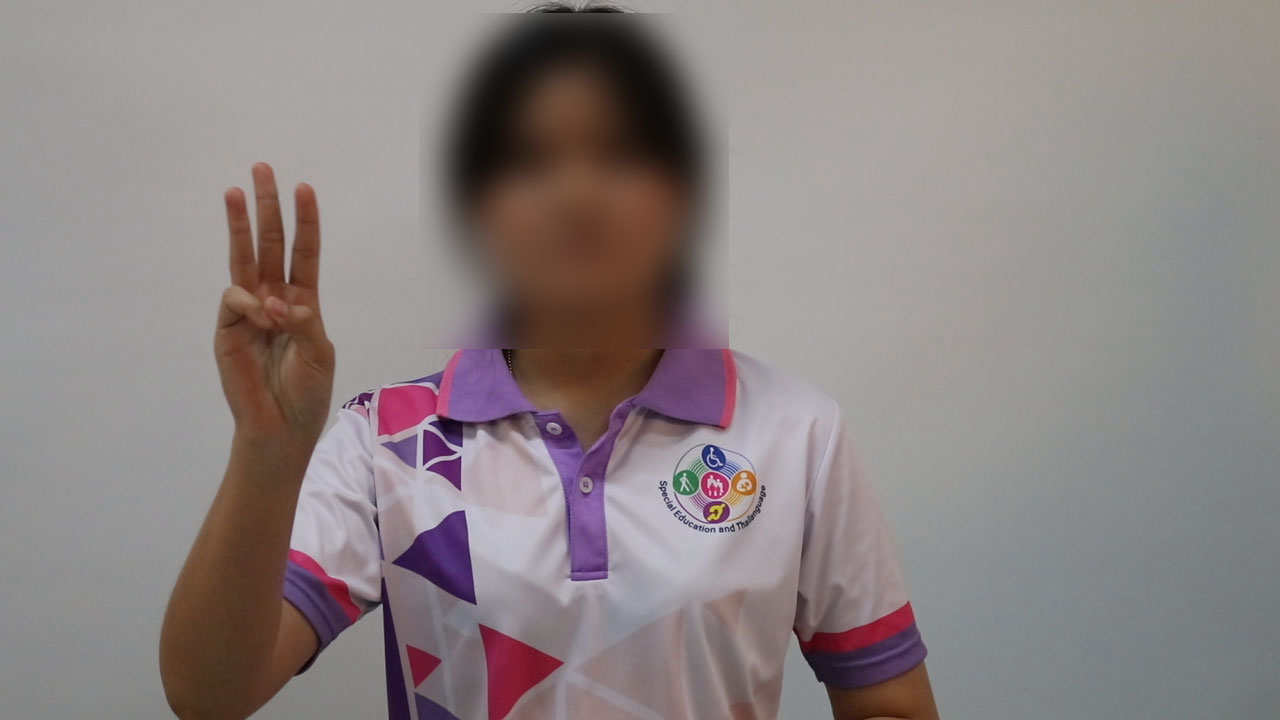wor: (202, 151, 357, 476)
